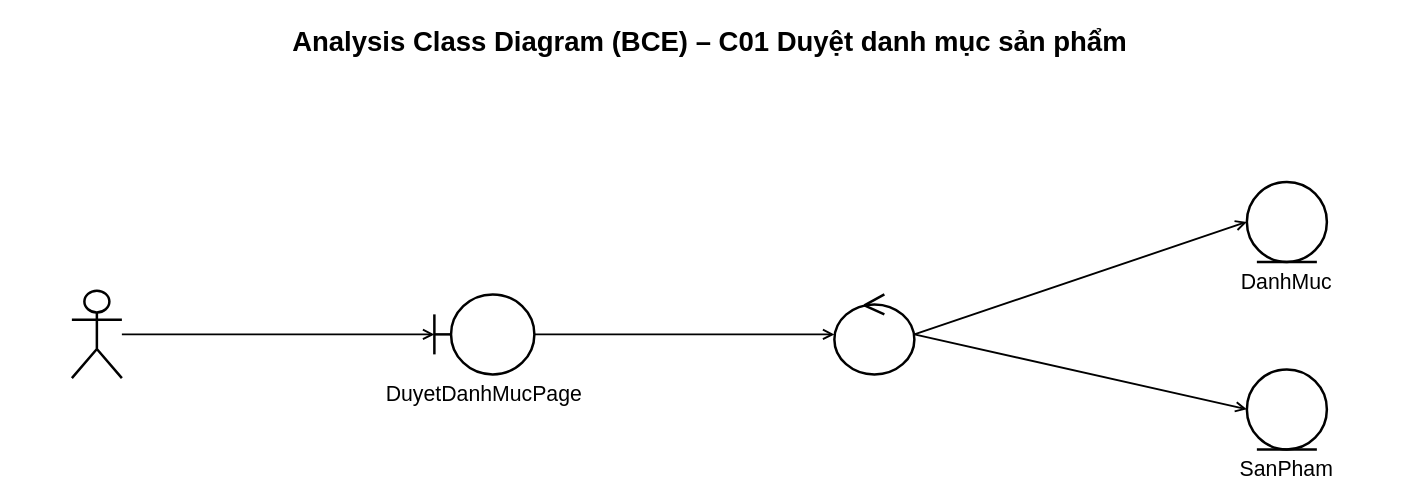
The diagram is 1418 pixels wide and 504 high, and some of its shapes have lost their labels. Here are the shapes that lost their labels. From the top down, the centre of each, then its label:
At point 96,334: "Khách hàng".
At point 873,333: "DuyetDanhMucController".
